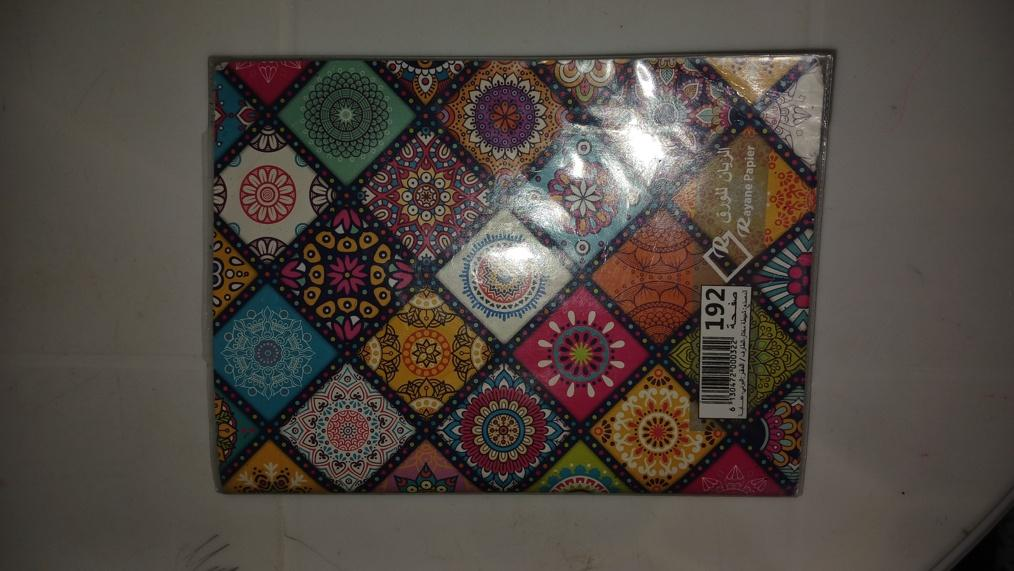notebook: (211, 55, 827, 498)
